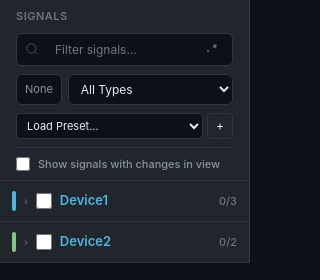
Test: SignalSidebar › Signal Search › filters signals by search query
Expected: the text "Device1" is shown, [60,192,108,208]
Expected: the text "Device2" is shown, [60,233,111,249]
// Search for "Temp"
Type "Temp" into the field with placeholder "Filter signals...".
click(123, 49); type("Temp")  # box [51,38,195,60]
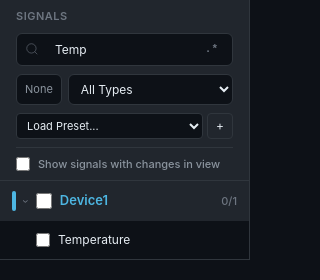
Now the text "Device2" is gone
